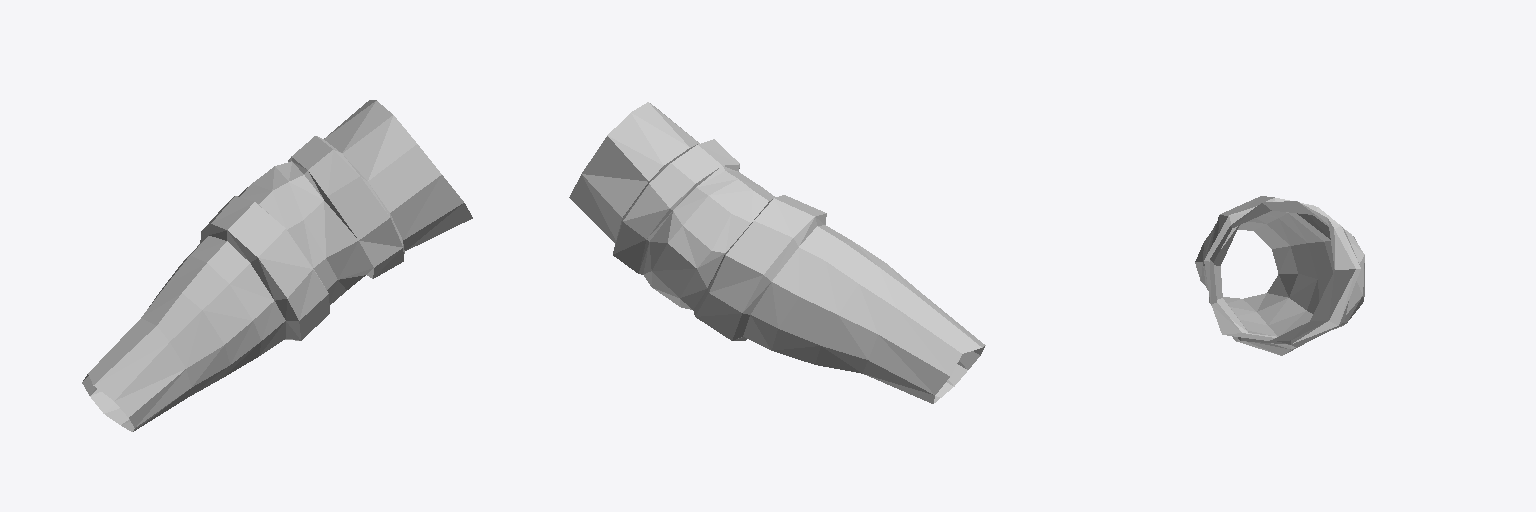
The model's file is hg_larm.obj.
3 renders of one model, left to right at view 1: azimuth 30°, elevation 25°; view 2: azimuth 150°, elevation 25°; view 3: azimuth 270°, elevation 25°, orthographic.
Parts seen in each view (by area): view 1: studio.helghast_assault_medium.smd.mesh_0.003; view 2: studio.helghast_assault_medium.smd.mesh_0.003; view 3: studio.helghast_assault_medium.smd.mesh_0.003.
Part boxes in pixels (bbox=[...]): studio.helghast_assault_medium.smd.mesh_0.003: bbox=[82, 100, 472, 431]; studio.helghast_assault_medium.smd.mesh_0.003: bbox=[569, 102, 985, 403]; studio.helghast_assault_medium.smd.mesh_0.003: bbox=[1195, 196, 1364, 355].
Bounding box in the file's own units: 13.99 × 8.37 × 5.47.